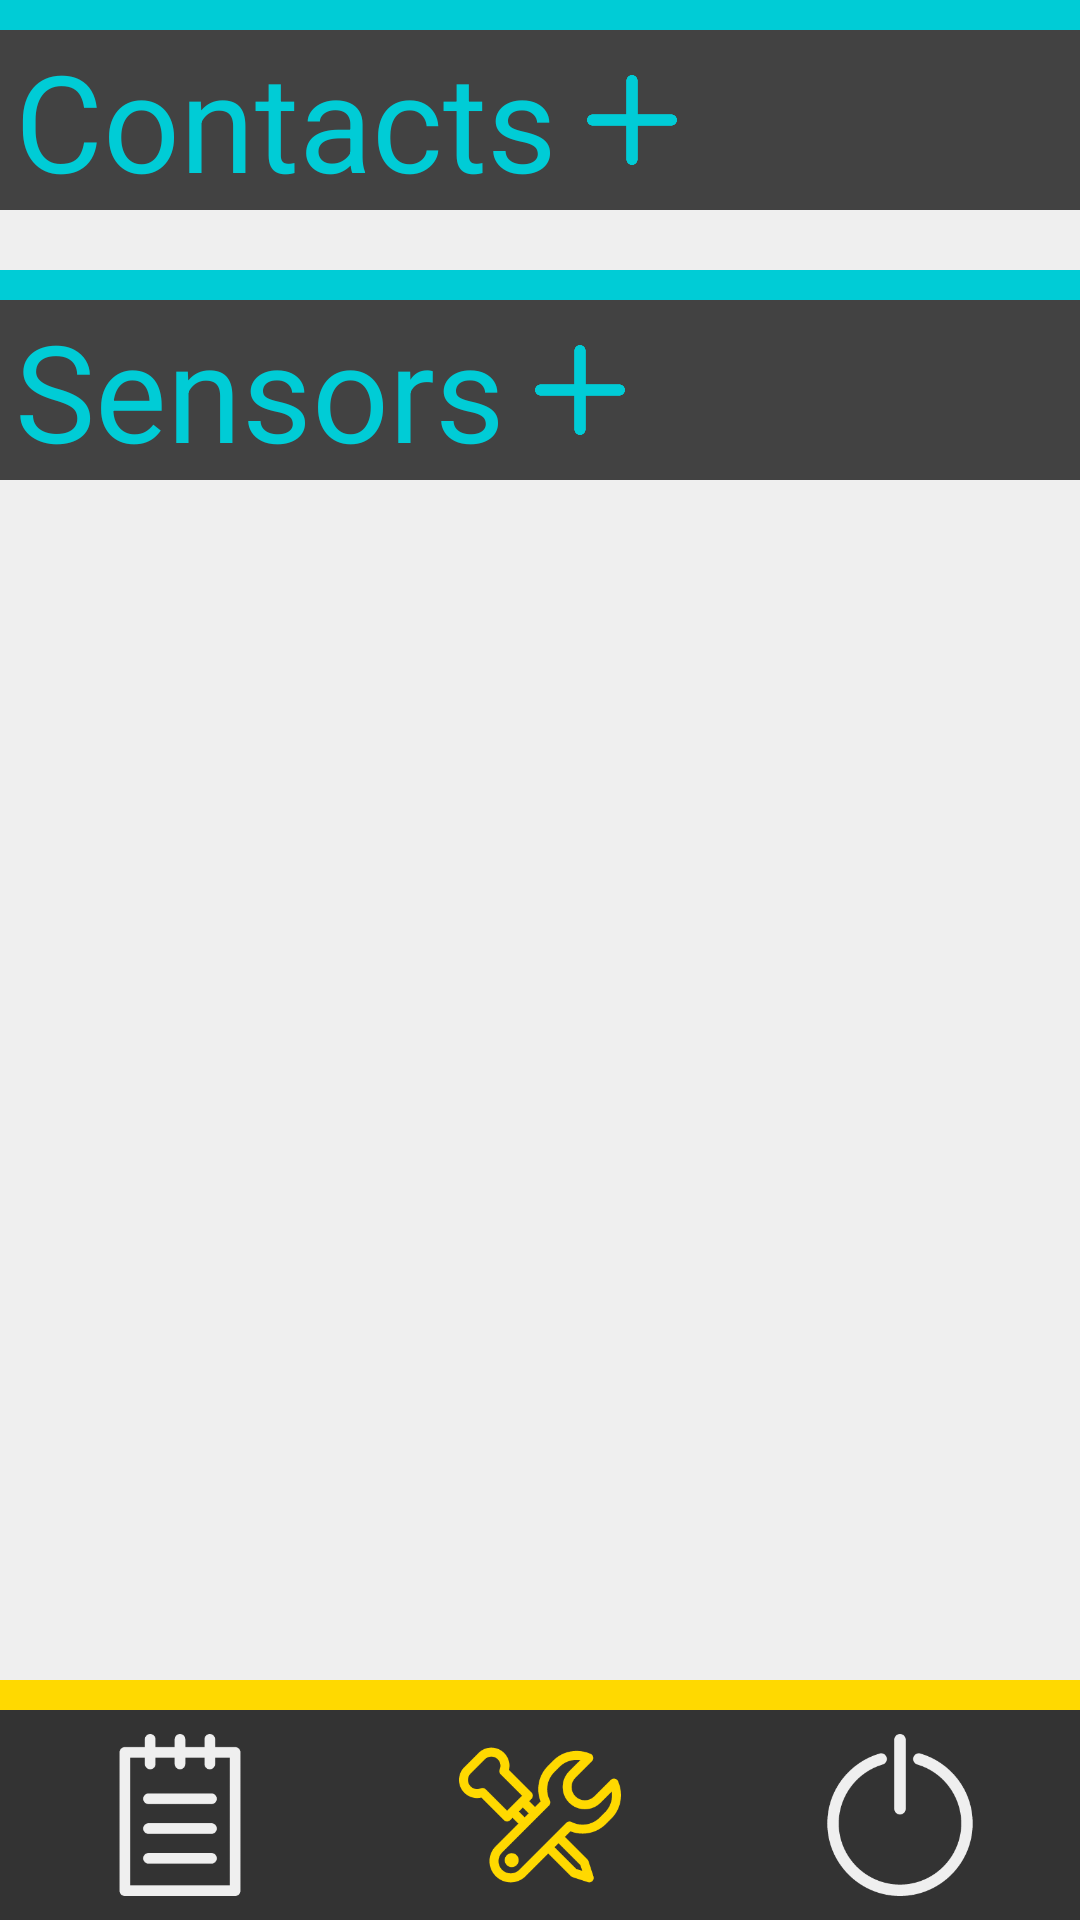

Where icons sit on this 1080*1920 app screen, as (x1, y1, x2, y2):
add: (587, 75, 677, 165), (535, 345, 625, 435)
notes: (119, 1734, 241, 1896)
power: (827, 1734, 973, 1896)
screwdriver: (459, 1747, 621, 1883)
